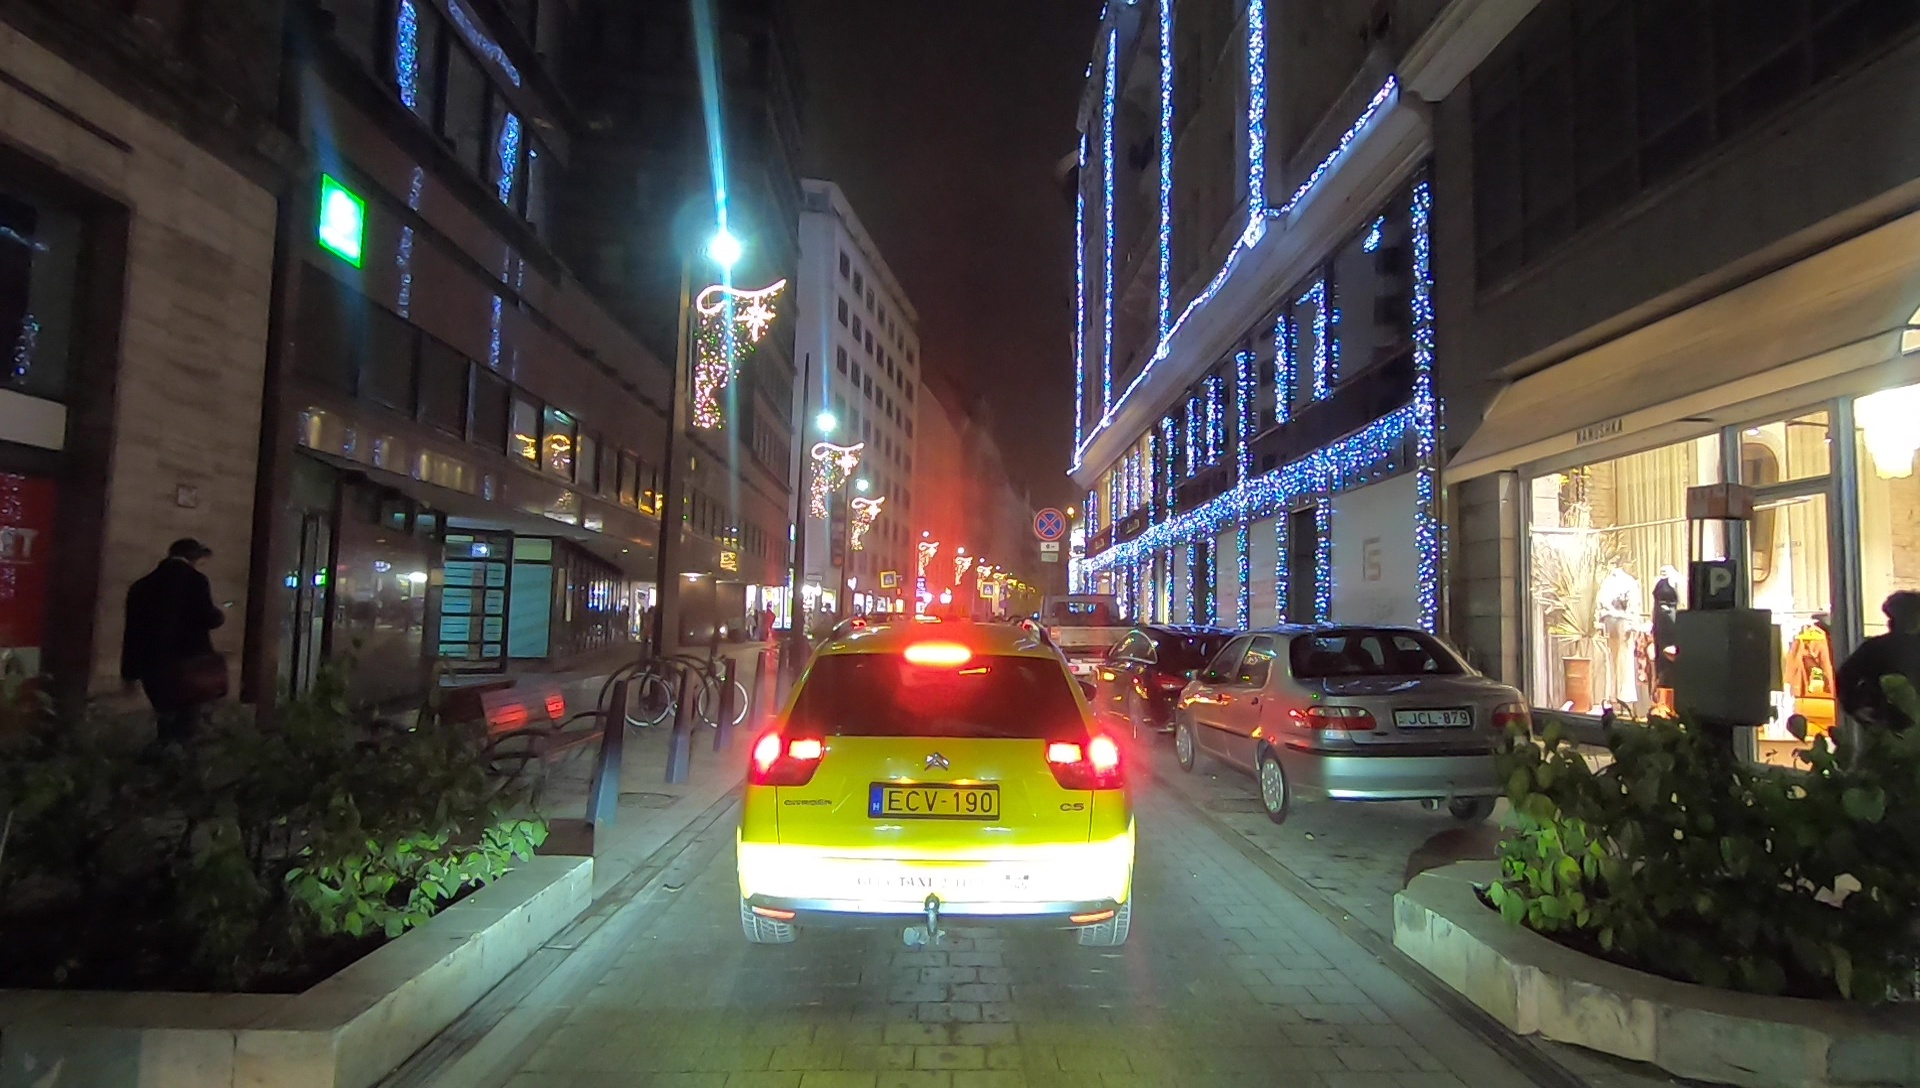person: (126, 534, 230, 750), (1847, 584, 1920, 802)
